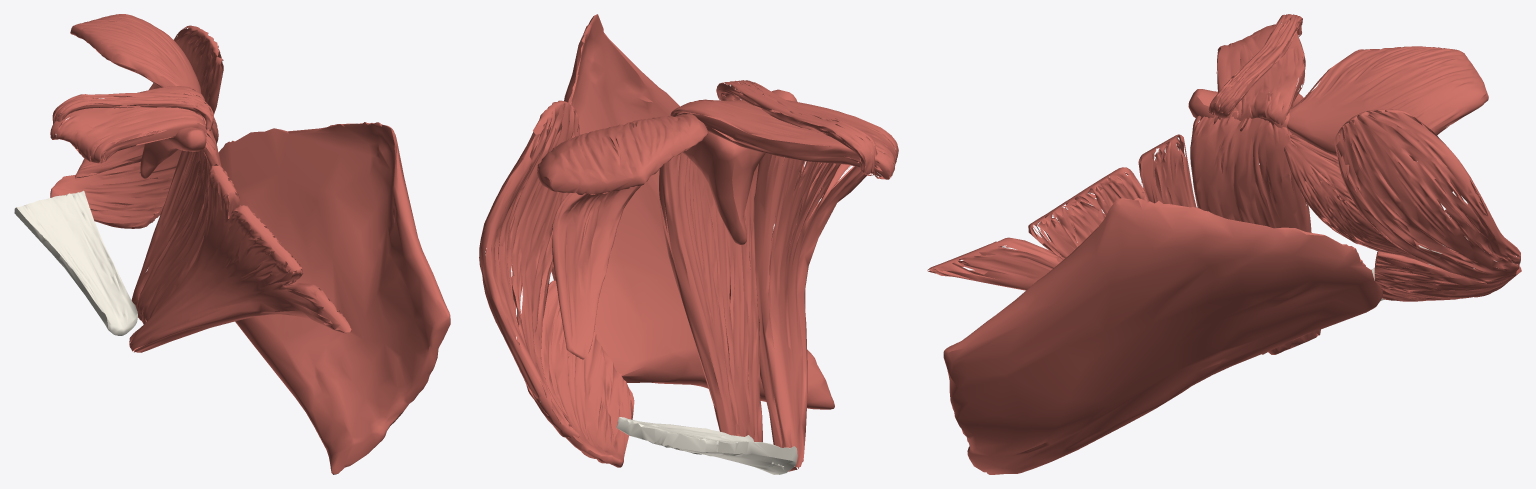
File: larynxm.glb
The picture shows the model from 3 angles, left to right: view 1: azimuth 30°, elevation 25°; view 2: azimuth 150°, elevation 25°; view 3: azimuth 270°, elevation 25°; orthographic projection. The views are drawn at different scales.
Parts seen in each view (by area): view 1: left thyrohyoid, left thyro-arytenoid (2), left thyro-arytenoid, median cricothyroid ligament, transverse arytenoid, left posterior crico-arytenoid, straight part of left cricothyroid, oblique part of left cricothyroid, left oblique arytenoid, left arytenoid cartilage; view 2: left thyrohyoid, left thyro-arytenoid, left thyro-arytenoid (2), oblique part of left cricothyroid, left posterior crico-arytenoid, straight part of left cricothyroid, left lateral crico-arytenoid, transverse arytenoid, left arytenoid cartilage, median cricothyroid ligament, left oblique arytenoid; view 3: left thyrohyoid, oblique part of left cricothyroid, left posterior crico-arytenoid, left thyro-arytenoid (2), left thyro-arytenoid, left lateral crico-arytenoid, transverse arytenoid, straight part of left cricothyroid, left oblique arytenoid, left arytenoid cartilage.
Part boxes in pixels (x1,y1,x2,y2): left thyrohyoid: (218,122,450,474); left thyro-arytenoid (2): (129,164,351,352); left thyro-arytenoid: (131,117,221,324); median cricothyroid ligament: (14,190,137,335); transverse arytenoid: (50,86,206,163); left posterior crico-arytenoid: (70,14,201,96); straight part of left cricothyroid: (50,161,175,228); oblique part of left cricothyroid: (75,25,223,178); left oblique arytenoid: (52,92,213,131); left arytenoid cartilage: (140,96,206,178); left thyrohyoid: (551,14,834,409); left thyro-arytenoid: (659,153,762,442); left thyro-arytenoid (2): (754,146,886,471); oblique part of left cricothyroid: (479,100,579,437); left posterior crico-arytenoid: (537,113,708,195); straight part of left cricothyroid: (541,280,634,467); left lateral crico-arytenoid: (551,186,640,359); transverse arytenoid: (670,99,898,179); left arytenoid cartilage: (677,89,797,244); median cricothyroid ligament: (616,417,797,474); left oblique arytenoid: (716,80,877,175); left thyrohyoid: (943,198,1382,474); oblique part of left cricothyroid: (1334,109,1520,283); left posterior crico-arytenoid: (1287,46,1488,156); left thyro-arytenoid (2): (927,134,1267,354); left thyro-arytenoid: (1190,110,1320,354); left lateral crico-arytenoid: (1284,134,1428,263); transverse arytenoid: (1216,24,1305,129); straight part of left cricothyroid: (1374,251,1521,301); left oblique arytenoid: (1208,14,1302,118); left arytenoid cartilage: (1188,89,1303,134).
Size of the model in its own units: 26.77 by 30.44 by 41.72.
